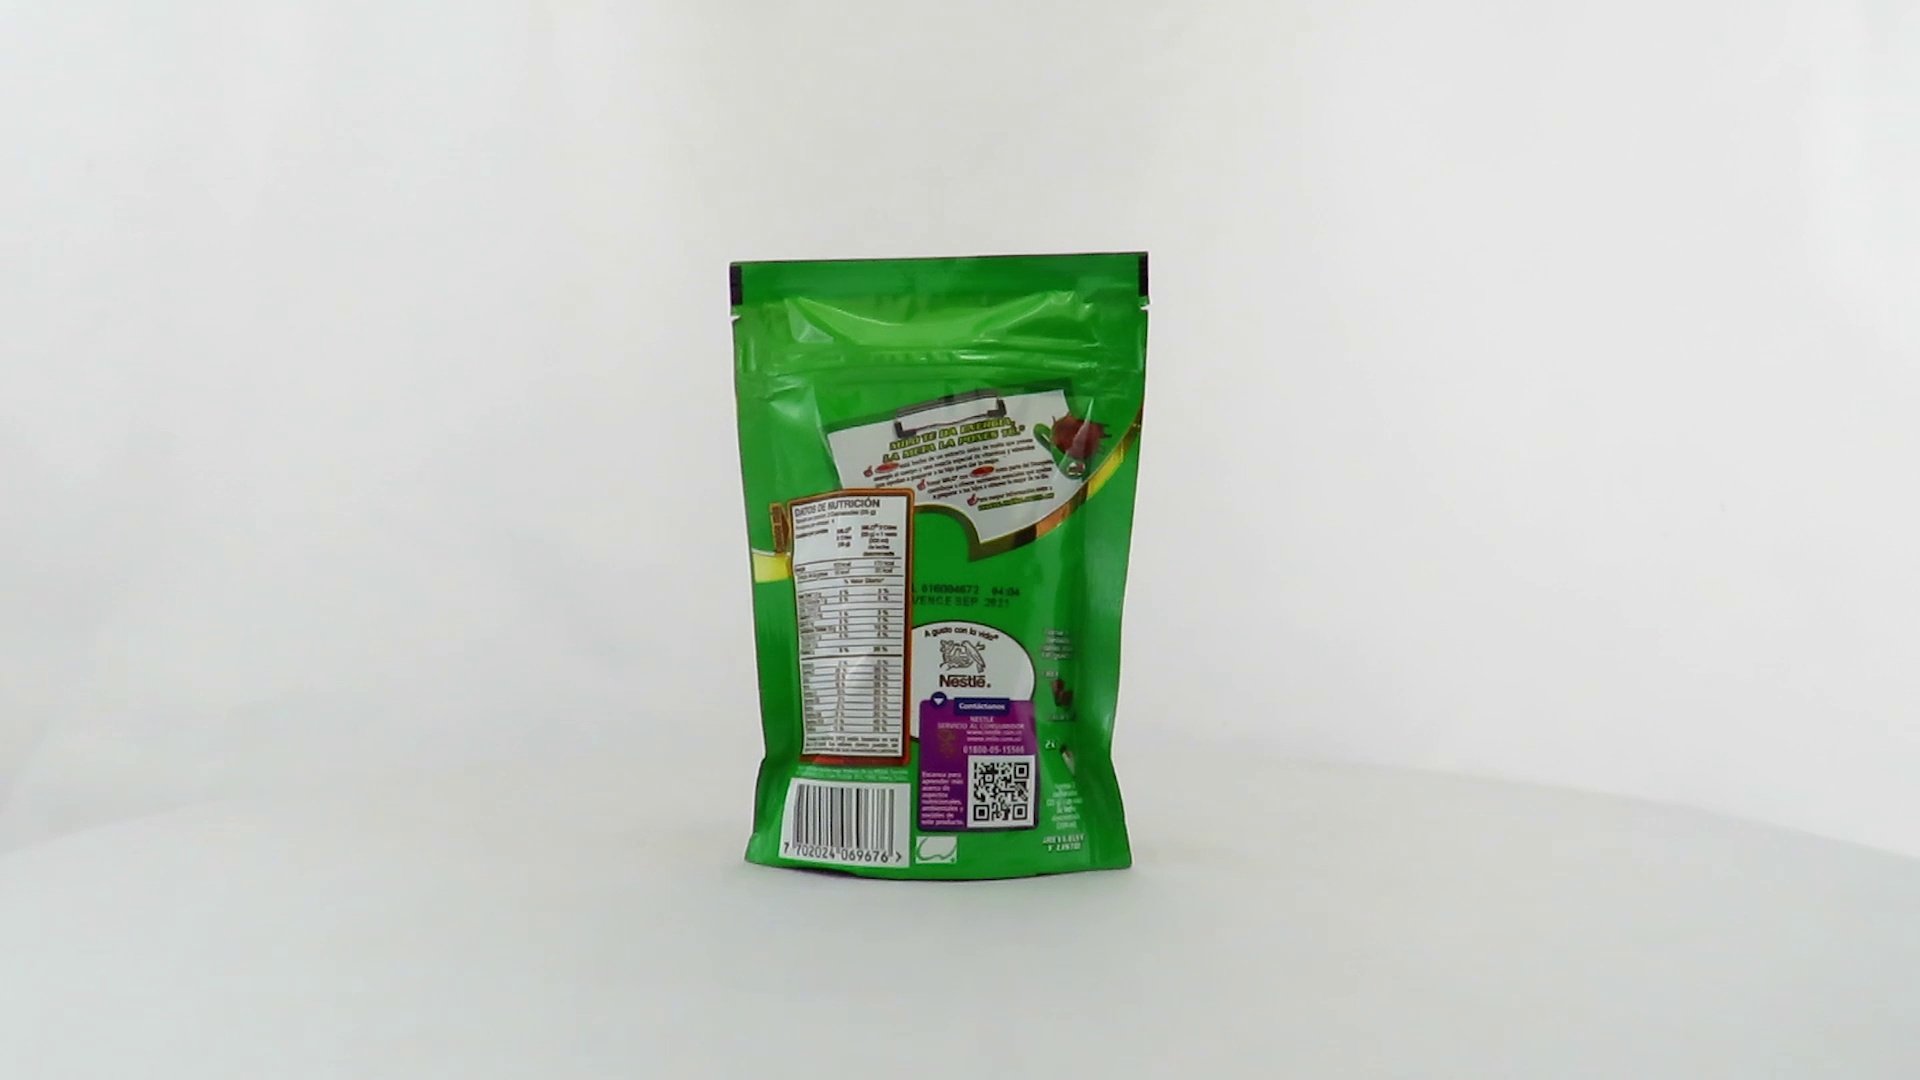COL0170203DYP10000: (724, 247, 1156, 887)
